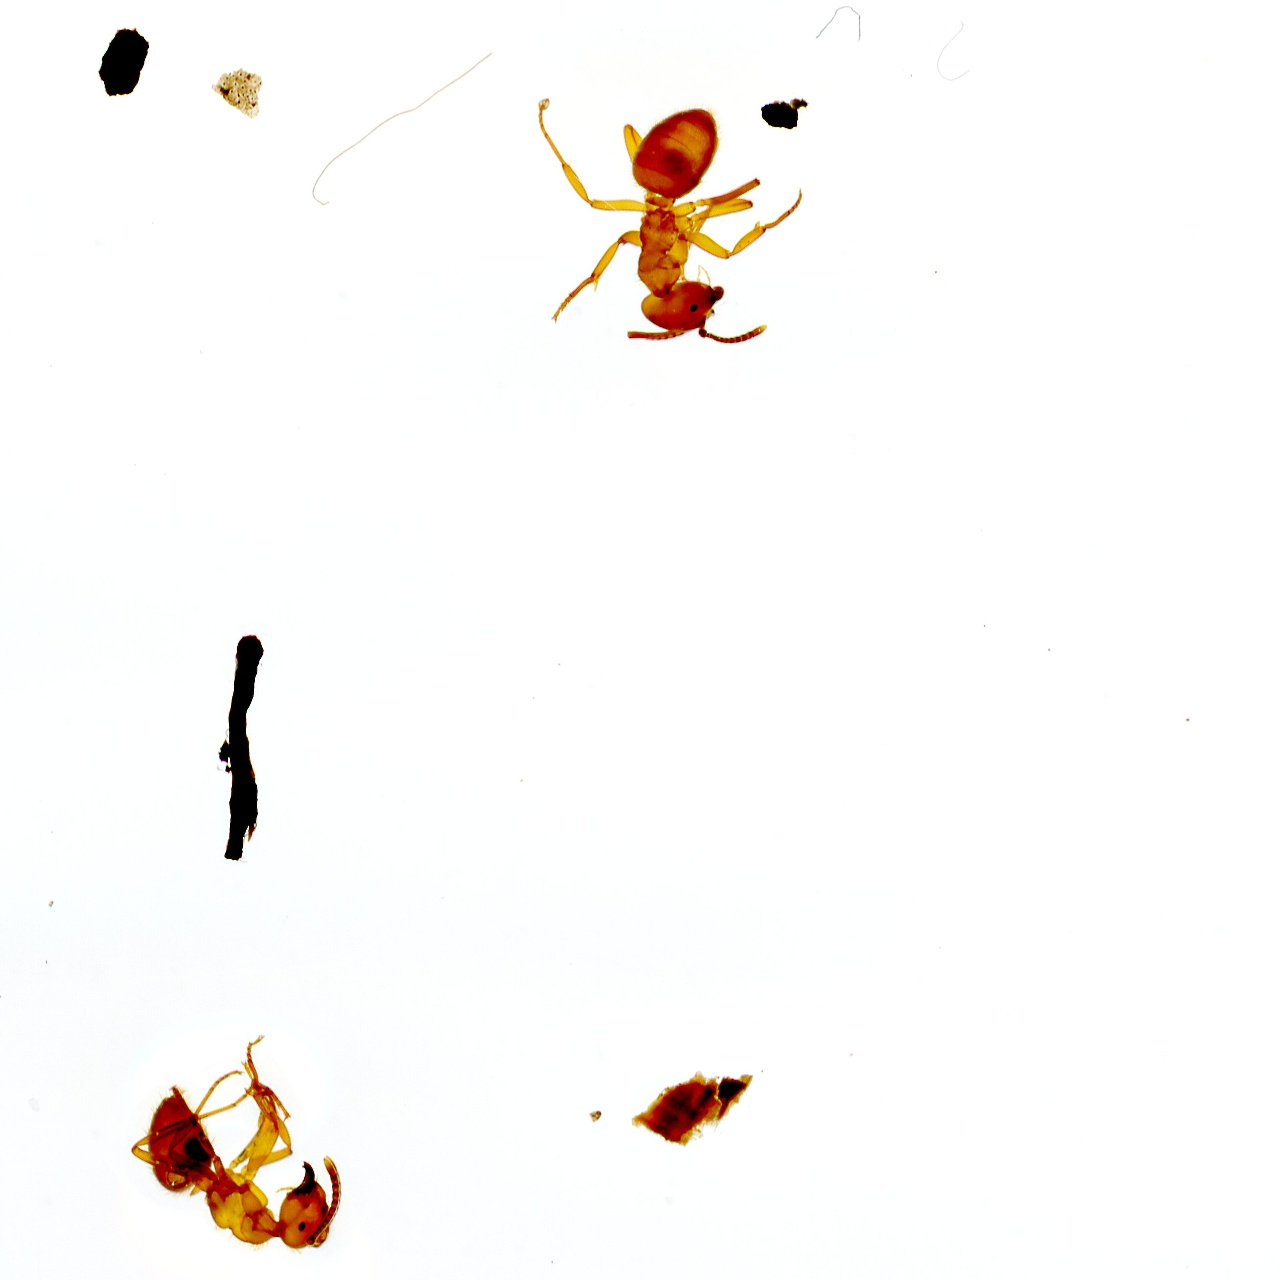arthropod: (525, 69, 815, 365), (124, 1024, 353, 1264)
